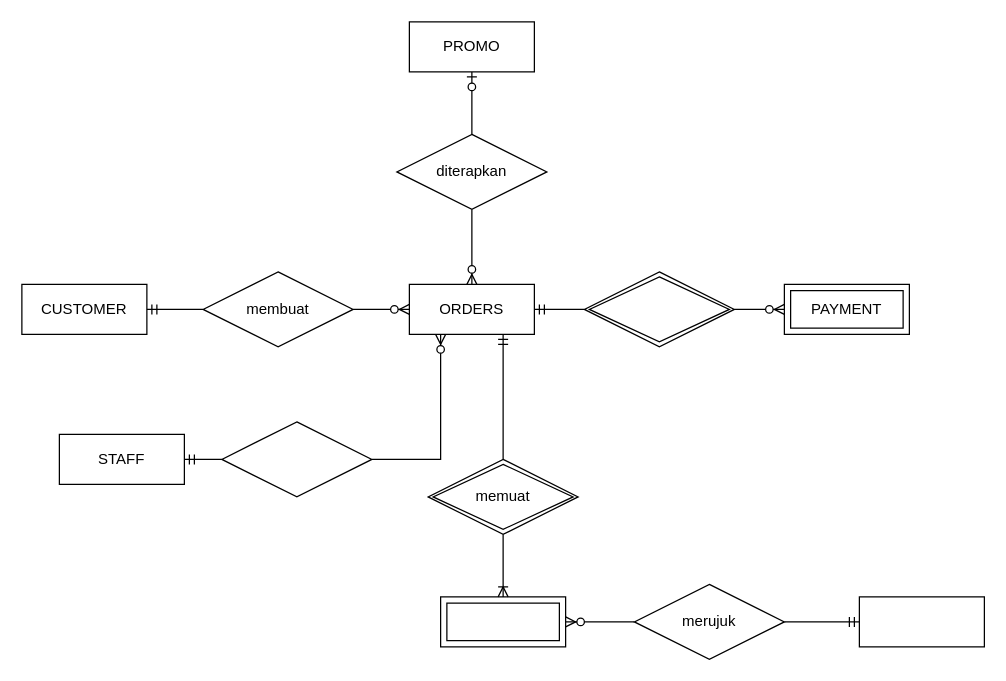
This 1006x681 diagram has some shape labels left out. Each missing label, with the centre of its shape:
dibayar: [658,309]
melayani: [296,459]
ORDER_DETAIL: [502,621]
SERVICE: [921,621]
